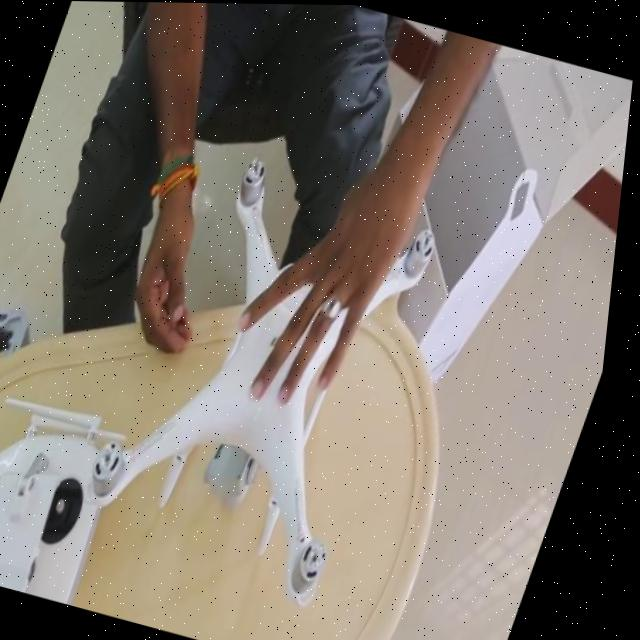drones: (59, 115, 498, 640)
